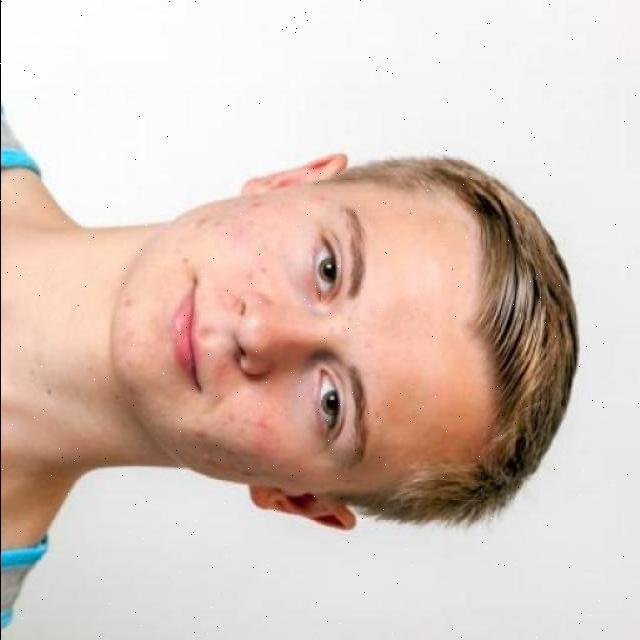Acne: (186, 416, 299, 496), (196, 201, 274, 278)
